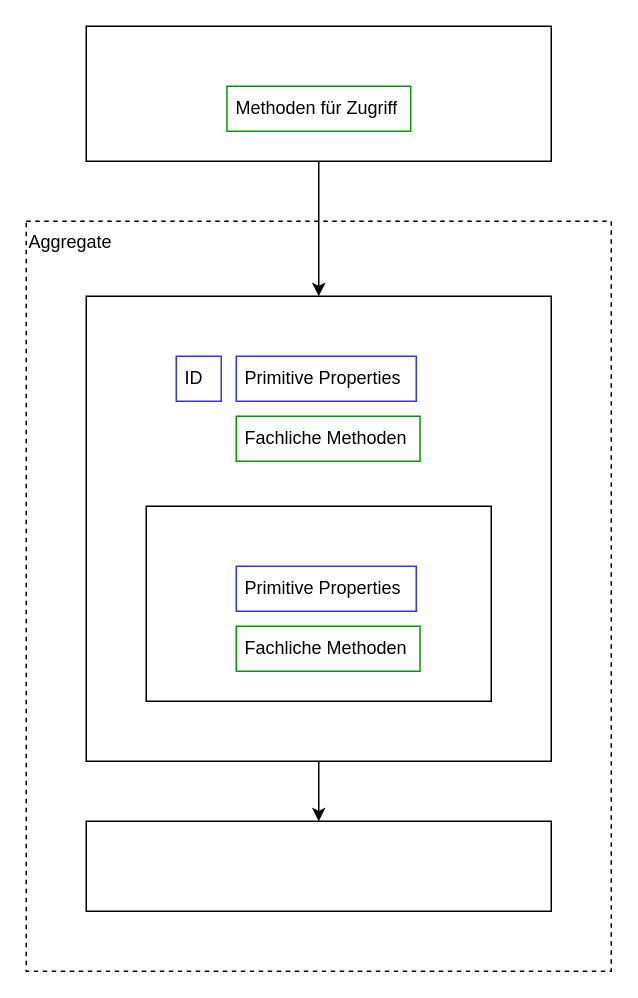
The diagram is 638 pixels wide and 998 high, and some of its shapes have lost their labels. The box of each missing label's shape, as (x1, y1, x2, y2) in pixels:
Repository: (85, 25, 551, 161)
Root Entity: (85, 295, 551, 761)
Sub Entity: (85, 820, 551, 911)
Value Object: (145, 505, 491, 701)
